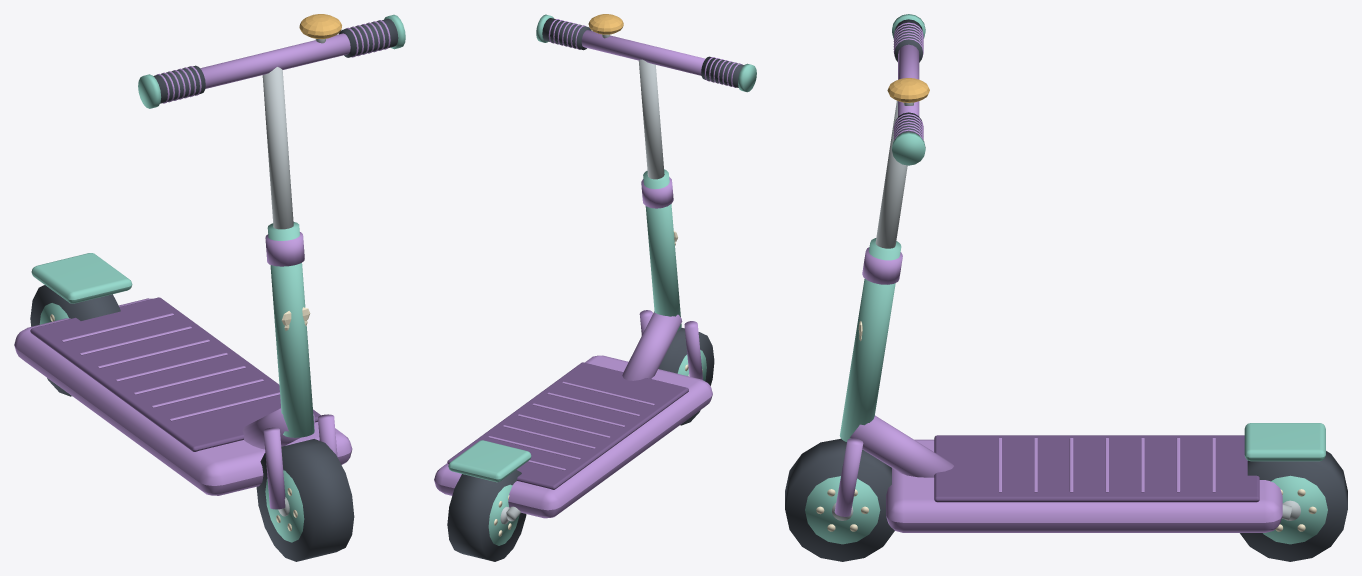
Rendered from maple-scooter.glb.
3 views of the same model, side by side, from view 1: azimuth 30°, elevation 25°; view 2: azimuth 150°, elevation 25°; view 3: azimuth 270°, elevation 25° (orthographic). The views are drawn at different scales.
Parts seen in each view (by area): view 1: Scooter chassis surfaces, Steering pivot surfaces, Front wheel surfaces, Rear wheel surfaces; view 2: Scooter chassis surfaces, Steering pivot surfaces, Rear wheel surfaces, Front wheel surfaces; view 3: Scooter chassis surfaces, Steering pivot surfaces, Front wheel surfaces, Rear wheel surfaces.
Boxes of the visible parts, left/top/right/bottom form: Scooter chassis surfaces: left=14, top=253, right=352, bottom=495; Steering pivot surfaces: left=138, top=14, right=405, bottom=509; Front wheel surfaces: left=256, top=439, right=354, bottom=561; Rear wheel surfaces: left=30, top=285, right=120, bottom=396; Scooter chassis surfaces: left=434, top=311, right=712, bottom=521; Steering pivot surfaces: left=536, top=14, right=756, bottom=379; Rear wheel surfaces: left=447, top=470, right=526, bottom=561; Front wheel surfaces: left=658, top=327, right=714, bottom=425; Scooter chassis surfaces: left=850, top=415, right=1325, bottom=532; Steering pivot surfaces: left=834, top=14, right=929, bottom=516; Front wheel surfaces: left=785, top=438, right=894, bottom=561; Rear wheel surfaces: left=1240, top=451, right=1347, bottom=561.
Bounding box in the file's own units: 0.564 × 1.07 × 1.11.
